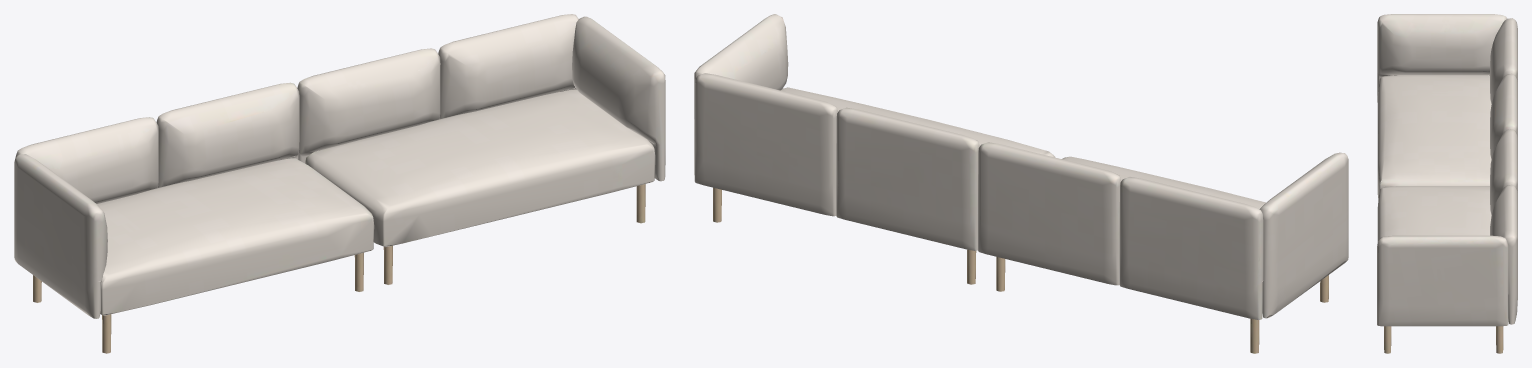
File: ikea-lillehem.glb
3 views of the same model, side by side, from view 1: azimuth 30°, elevation 25°; view 2: azimuth 150°, elevation 25°; view 3: azimuth 270°, elevation 25° (orthographic). The views are drawn at different scales.
Size of the model in its own units: 2.96 by 0.738 by 0.7742.
3 materials, 3 textured.
